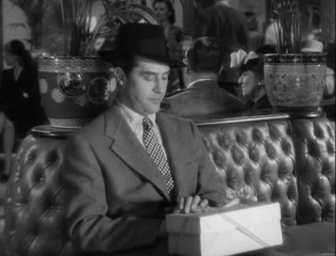face: (134, 64, 170, 113)
ms: (1, 1, 336, 256)
person: (53, 23, 228, 256)
